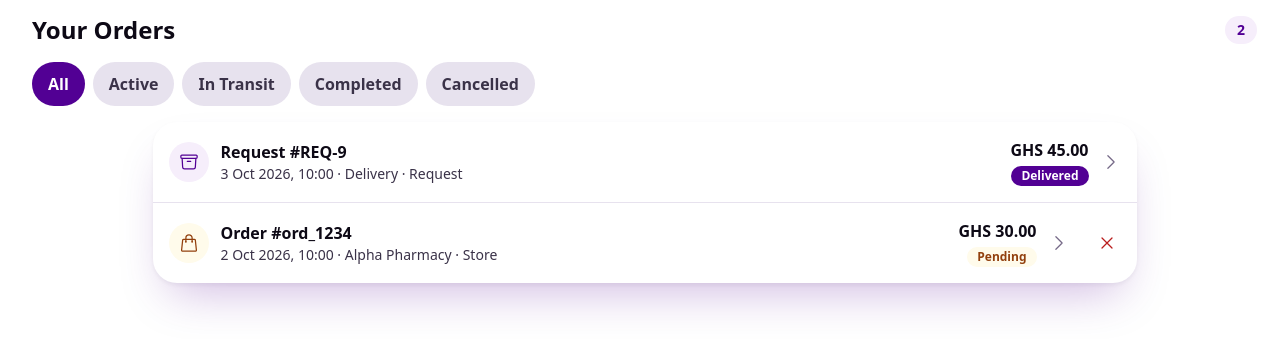
it: Orders: detail dialogs › asks for confirmation before cancelling
The image size is (1274, 339).
Click the button named "Cancel this order — Order #ord_1234" at (1106, 243), box top-left (1084, 221), bottom-right (1128, 265)
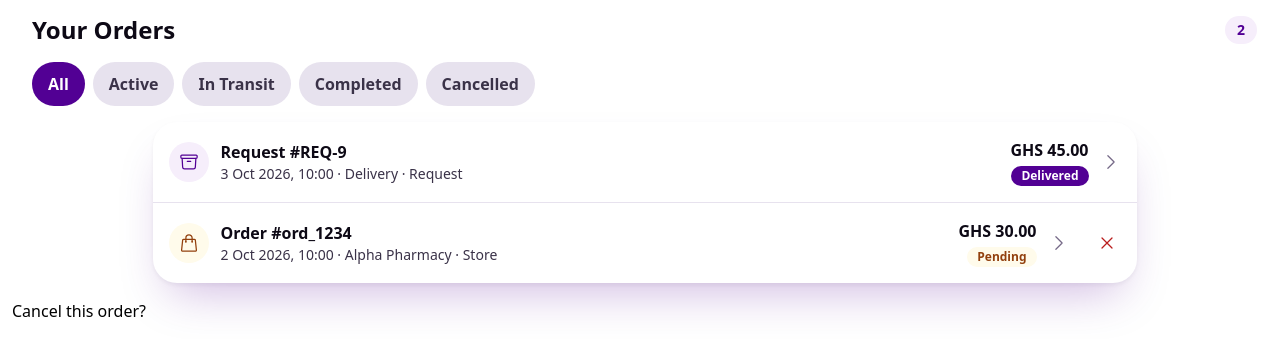
Now the text with test id "confirm" shows "Cancel this order", box top-left (12, 300), bottom-right (146, 322)
